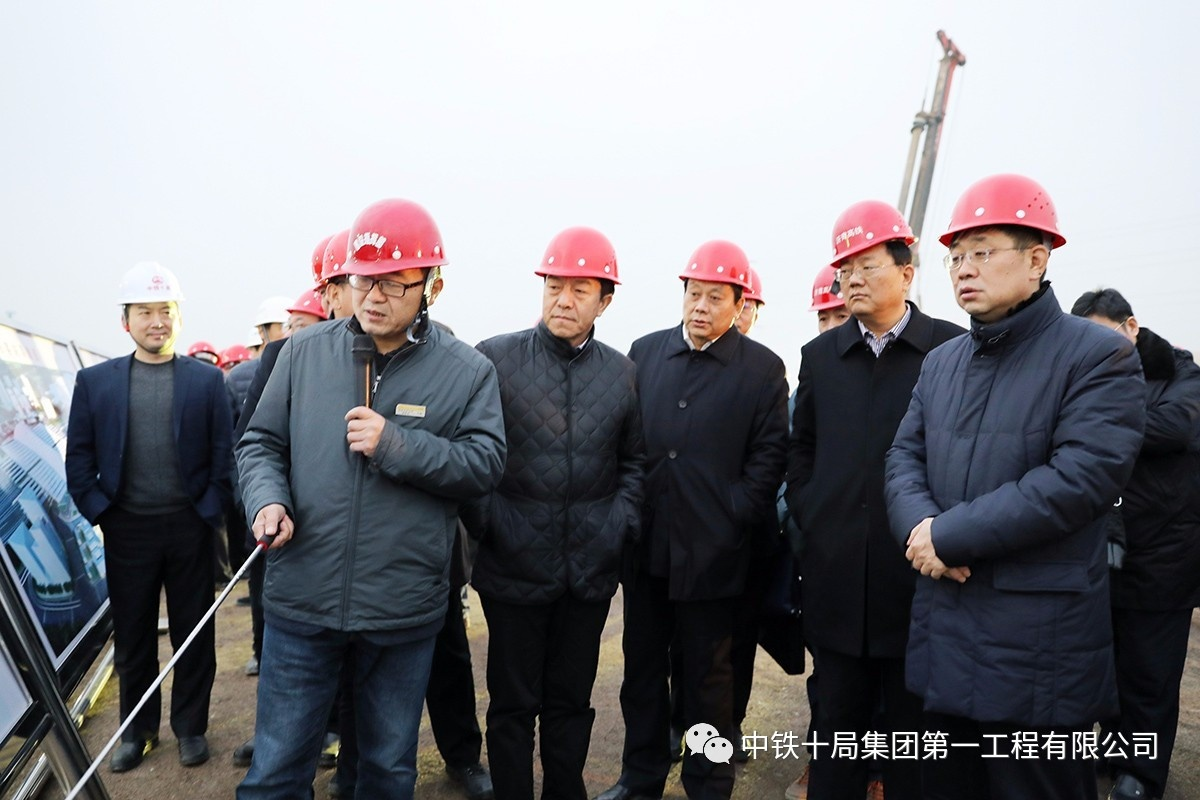none: (1070, 285, 1139, 344)
red: (941, 179, 1058, 316), (343, 197, 448, 326), (527, 220, 621, 337), (832, 200, 920, 318), (681, 240, 747, 335), (315, 234, 351, 317), (807, 261, 847, 328), (733, 267, 767, 334), (286, 287, 326, 331)
white: (114, 262, 187, 356), (251, 295, 291, 345)
